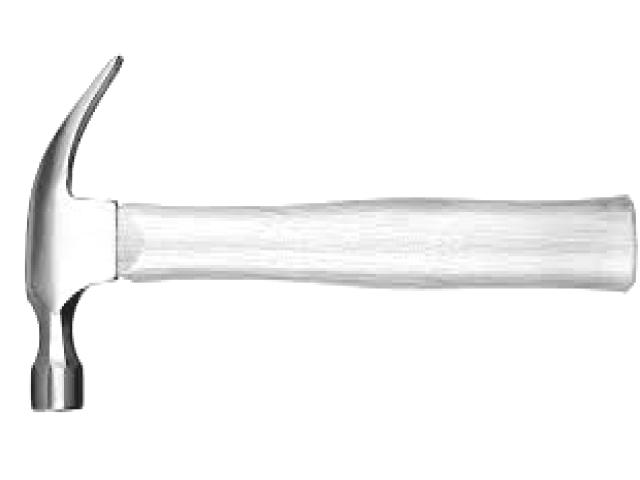Hammer: (26, 55, 635, 409)
